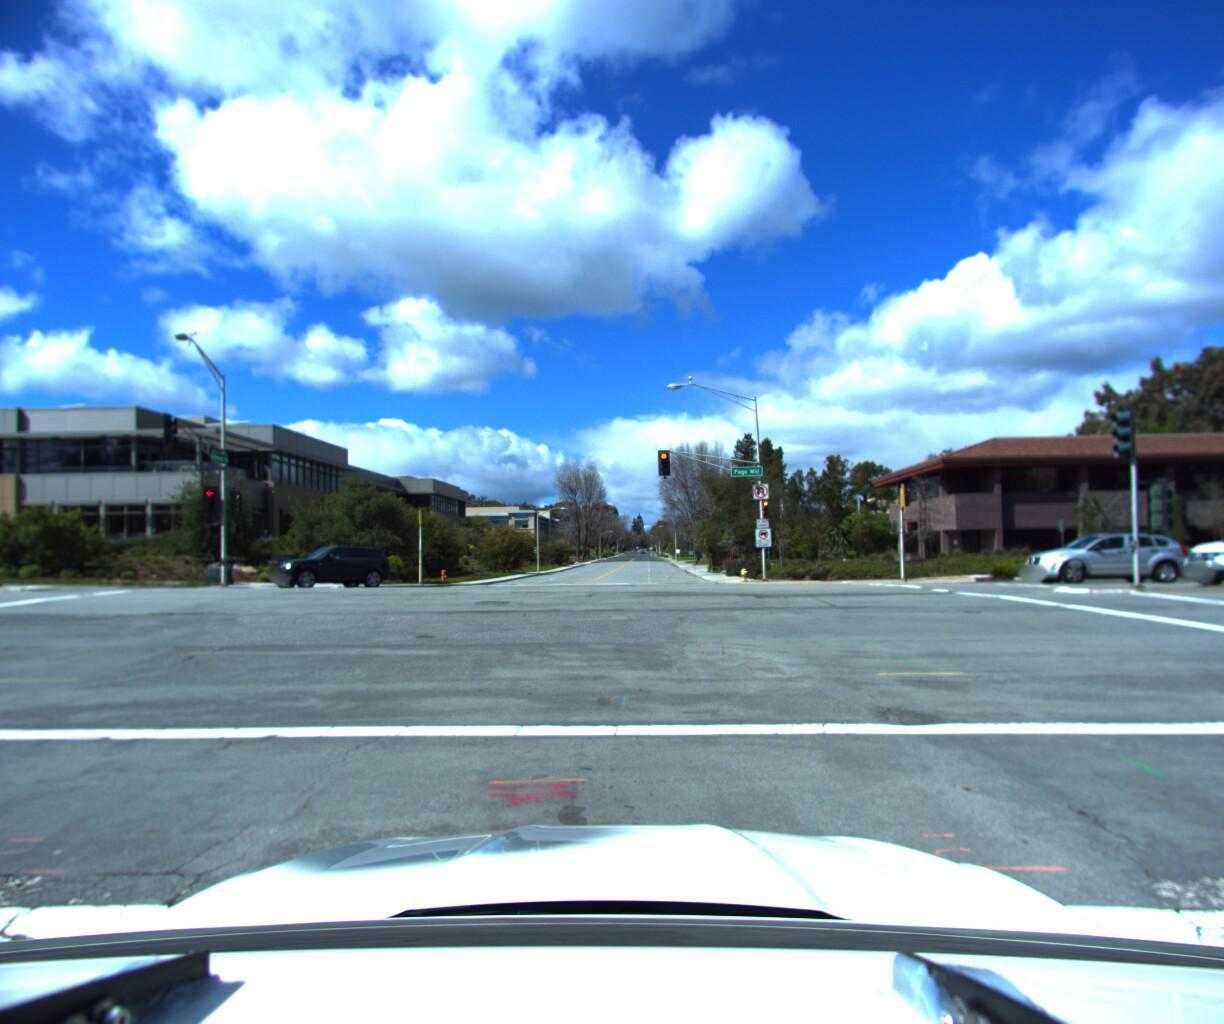car: (1002, 529, 1186, 588), (262, 547, 394, 595), (1154, 511, 1224, 589)
